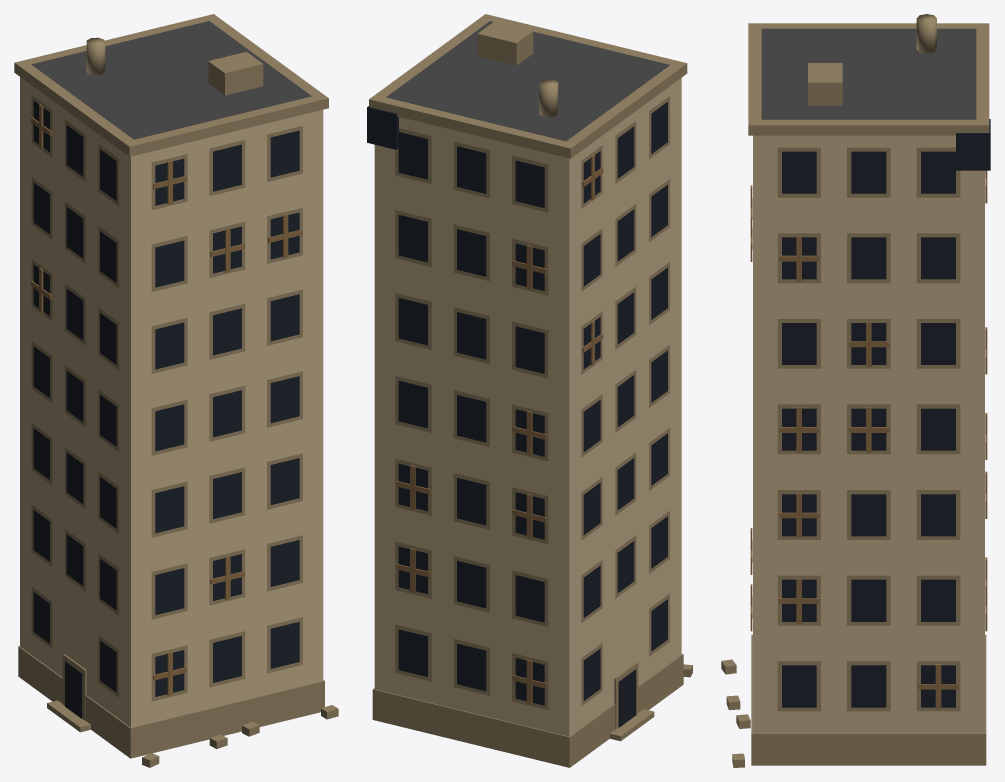
The model's file is building_c.glb.
The picture shows the model from 3 angles, left to right: view 1: azimuth 30°, elevation 25°; view 2: azimuth 150°, elevation 25°; view 3: azimuth 270°, elevation 25°; orthographic projection. The views are drawn at different scales.
Parts seen in each view (by area): view 1: BuildingC; view 2: BuildingC; view 3: BuildingC.
Boxes of the visible parts, bbox=[...] form: BuildingC: bbox=[14, 14, 338, 767]; BuildingC: bbox=[367, 14, 692, 767]; BuildingC: bbox=[721, 14, 990, 767].
Size of the model in its own units: 8.75 by 25.6 by 9.29.
